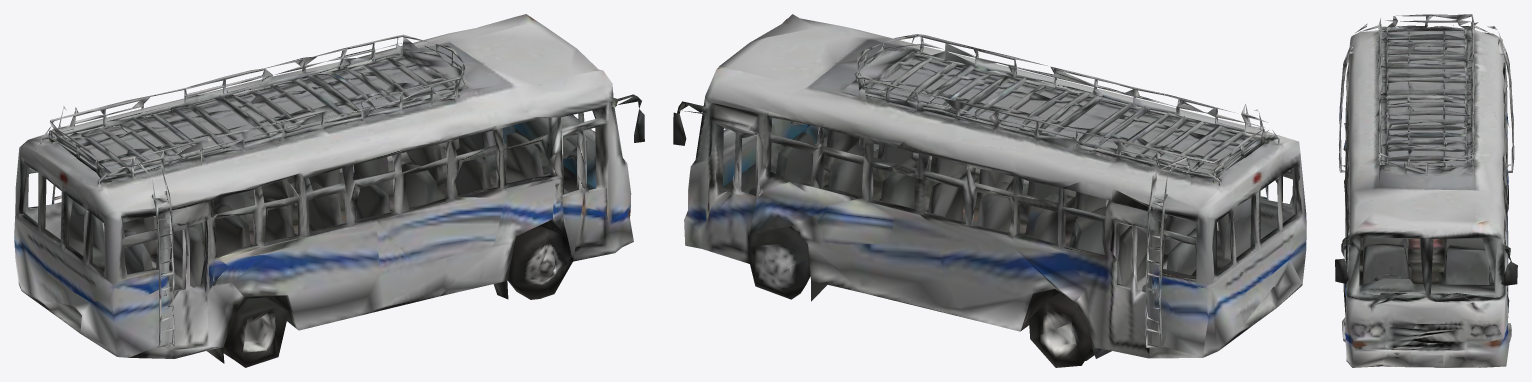
The model's file is pbus_1.glb.
3 views of the same model, side by side, from view 1: azimuth 30°, elevation 25°; view 2: azimuth 150°, elevation 25°; view 3: azimuth 270°, elevation 25° (orthographic). The views are drawn at different scales.
Parts seen in each view (by area): view 1: tripo_node_4e77e796-a625-444f-8c66-4c2ce7cc06a3; view 2: tripo_node_4e77e796-a625-444f-8c66-4c2ce7cc06a3; view 3: tripo_node_4e77e796-a625-444f-8c66-4c2ce7cc06a3.
Part boxes in pixels (x1=…): tripo_node_4e77e796-a625-444f-8c66-4c2ce7cc06a3: x1=14, y1=14, x2=644, y2=367; tripo_node_4e77e796-a625-444f-8c66-4c2ce7cc06a3: x1=673, y1=14, x2=1306, y2=367; tripo_node_4e77e796-a625-444f-8c66-4c2ce7cc06a3: x1=1335, y1=14, x2=1517, y2=367.
Bounding box in the file's own units: 0.9986 × 0.4022 × 0.3674.
1 material, 1 textured.
